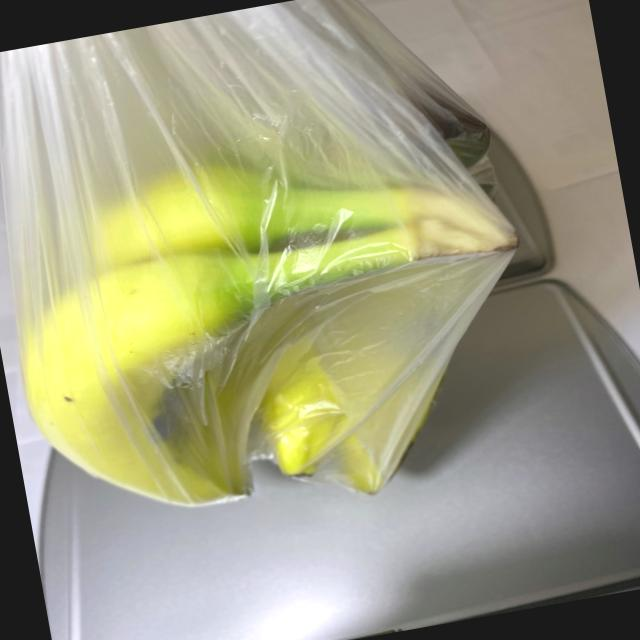banana: (0, 83, 562, 550)
